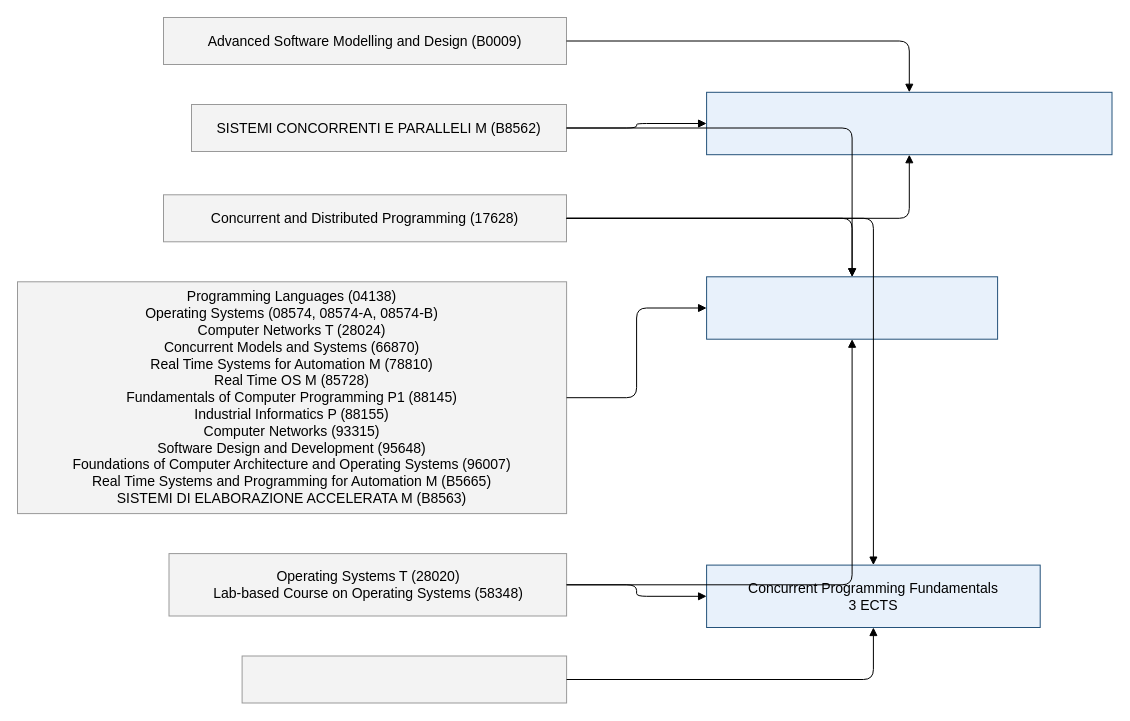
Some shapes in this 1130 by 721 pixel diagram are drawn without their labels. The shapes that lost their labels are listed below. From the top down, each one's box as (x1, y1, x2, y2) in pixels, then its label:
(706, 91, 1112, 155): Distributed and Verified Concurrent Programming 3 ECTS
(706, 276, 998, 339): Concurrency and Synchronization 3 ECTS
(241, 655, 567, 703): Object-Oriented Programming (70219)
